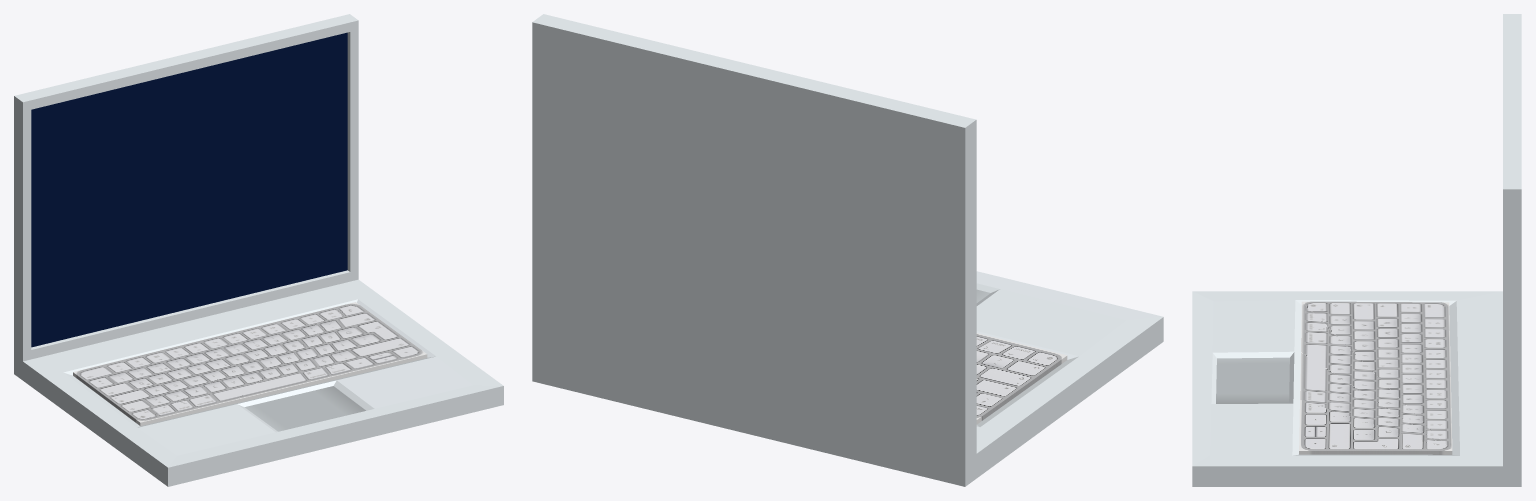
The model's file is laptop.fbx.
The picture shows the model from 3 angles, left to right: view 1: azimuth 30°, elevation 25°; view 2: azimuth 150°, elevation 25°; view 3: azimuth 270°, elevation 25°; orthographic projection. The views are drawn at different scales.
Visible parts, largest first — view 1: Cube.041; view 2: Cube.041; view 3: Cube.041.
Part boxes in pixels (x1,y1,x2,y2): Cube.041: (14,14,503,486); Cube.041: (532,14,1163,486); Cube.041: (1192,14,1521,486).
Bounding box in the file's own units: 133 × 106 × 106.
